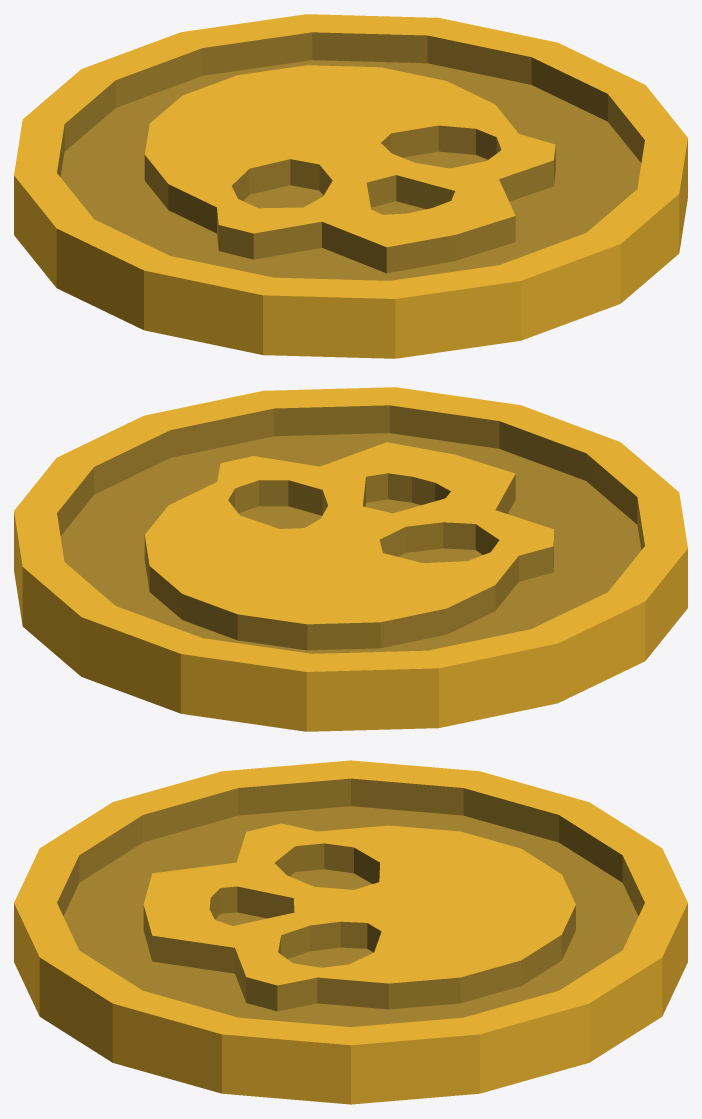
Rendered from Coin_Skull.fbx.
3 renders of one model, top to bottom at view 1: azimuth 30°, elevation 25°; view 2: azimuth 150°, elevation 25°; view 3: azimuth 270°, elevation 25°, orthographic.
Parts seen in each view (by area): view 1: Coin_Skull; view 2: Coin_Skull; view 3: Coin_Skull.
Boxes of the visible parts, <box> form: Coin_Skull: <box>14,14,687,358</box>; Coin_Skull: <box>14,387,687,731</box>; Coin_Skull: <box>14,760,687,1104</box>.
Bounding box in the file's own units: 20 × 20 × 1.94.
